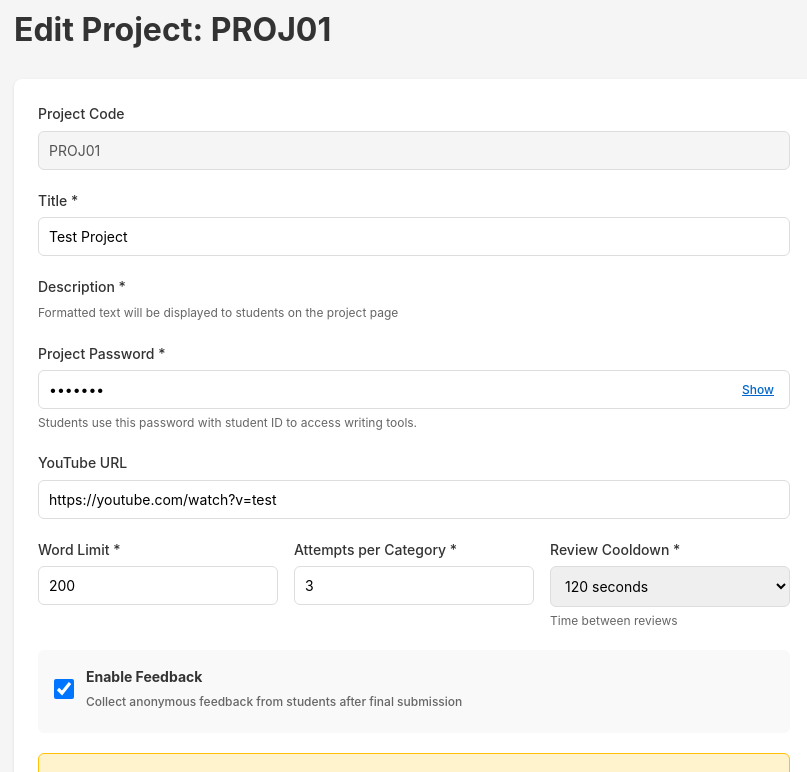
Test: EditProject Component › Password Pre-fill and Show/Hide Toggle › should show password when Show button is clicked
Click the button "Show" at (758, 389), box [734,378,782,401]
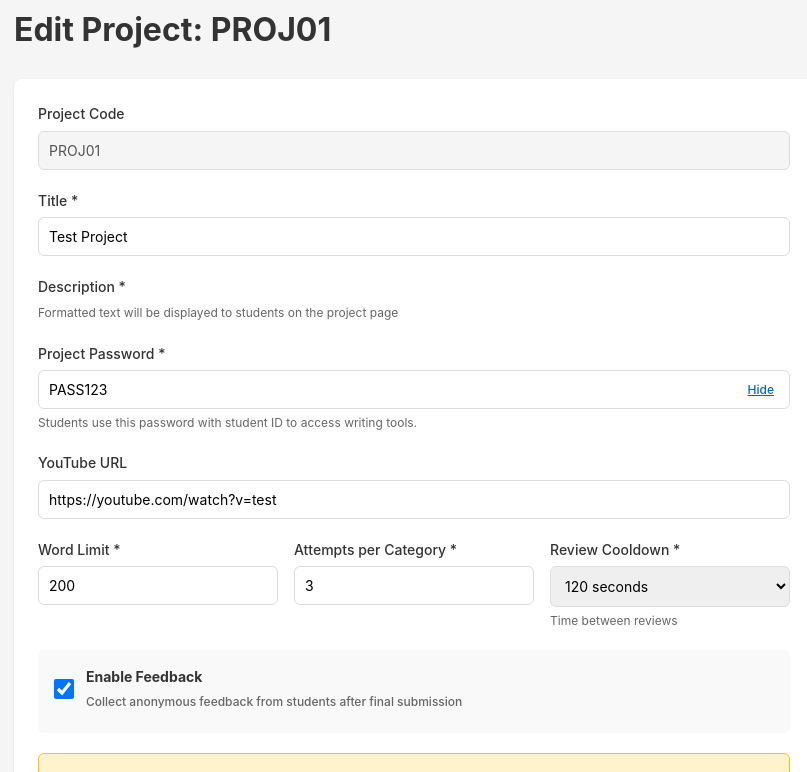
Check: the field named "projectPassword" below "Project Password *" shows its text, box [38,370,790,409]
Check: the button "Hide" is shown, box [740,378,782,401]
